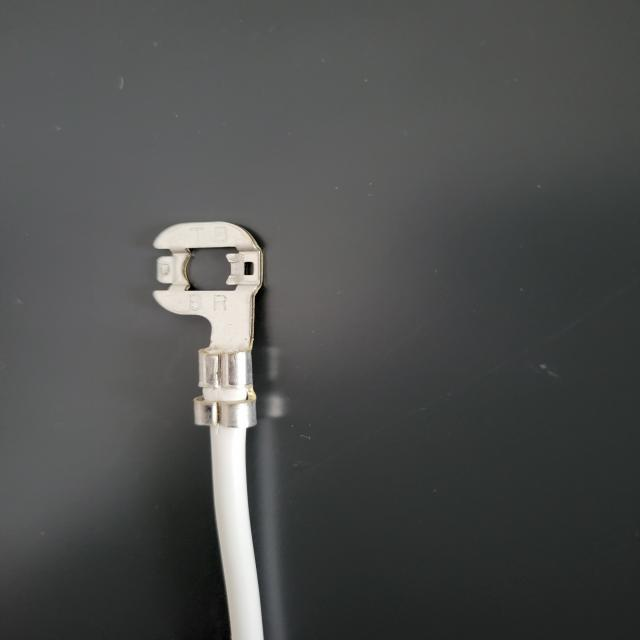defect: (166, 341, 303, 444)
